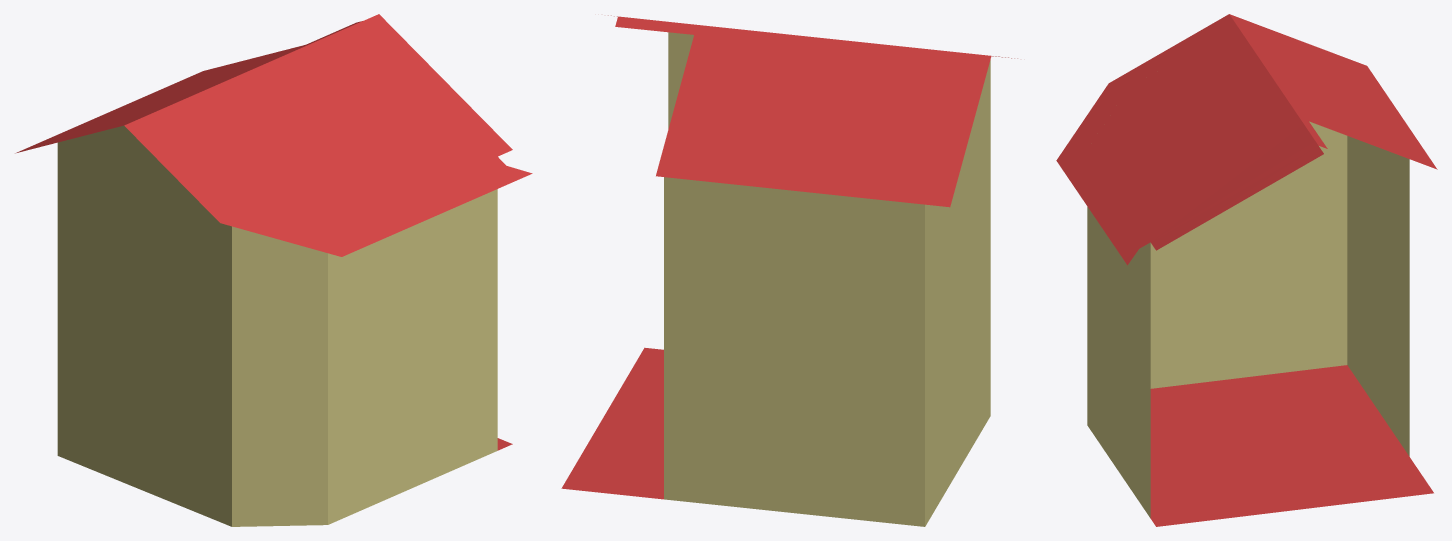
The picture shows the model from 3 angles, left to right: view 1: azimuth 30°, elevation 25°; view 2: azimuth 150°, elevation 25°; view 3: azimuth 270°, elevation 25°; orthographic projection. The views are drawn at different scales.
Bounding box in the file's own units: 10.96 × 9.86 × 10.06.
